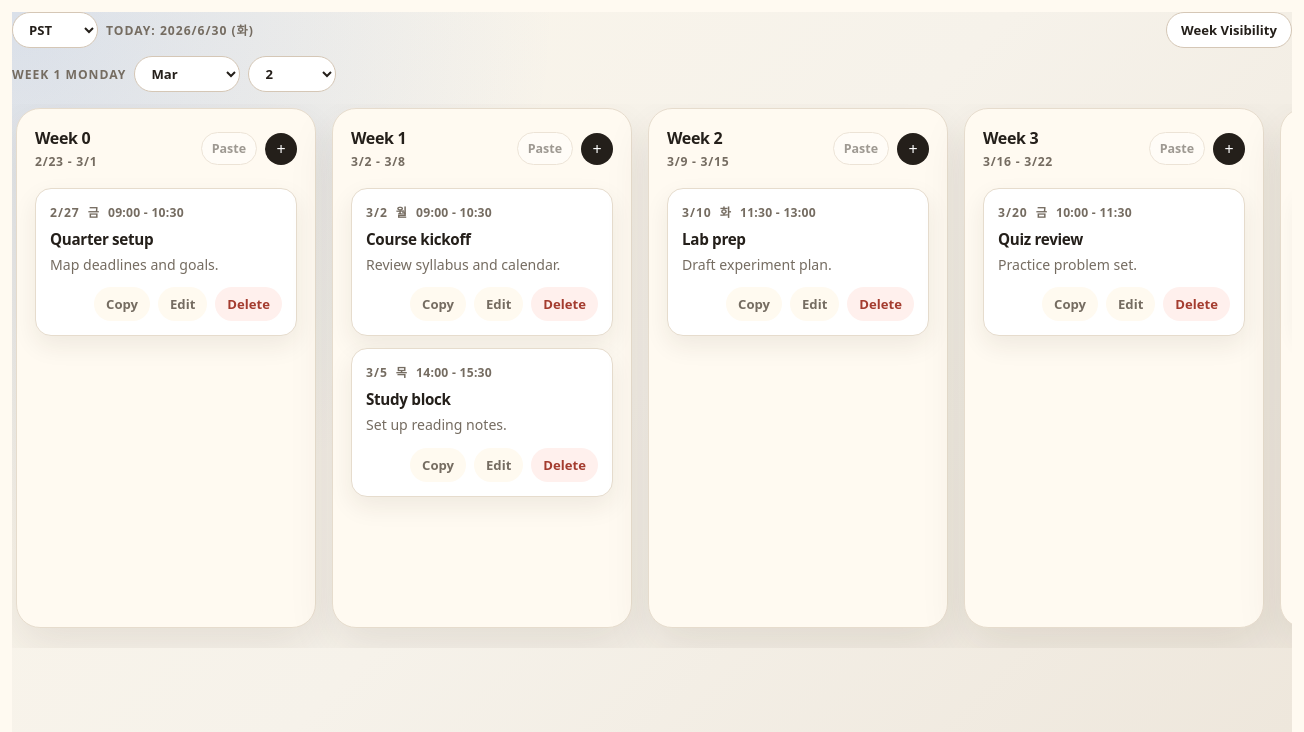
Test: QuarterCalendar › shows today in the selected timezone above the Week 1 Monday picker
This screenshot has width=1304, height=732.
Expected: the text "TODAY: 2026/6/30 (화)" is shown, [106,21,254,39]
Select "KST" in the dropdown named "Today timezone". click: (55, 30)
box: [12,12,98,48]
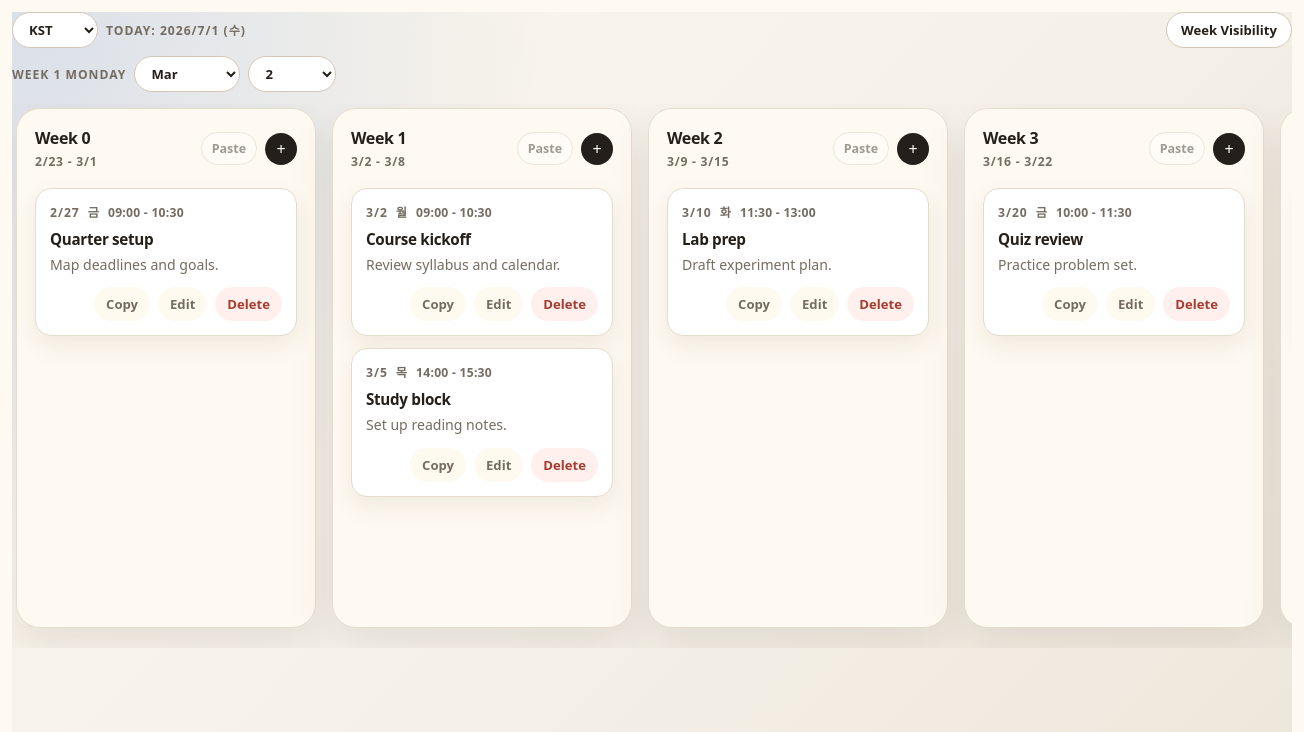
Expected: the text "TODAY: 2026/7/1 (수)" is shown, [106,21,246,39]
